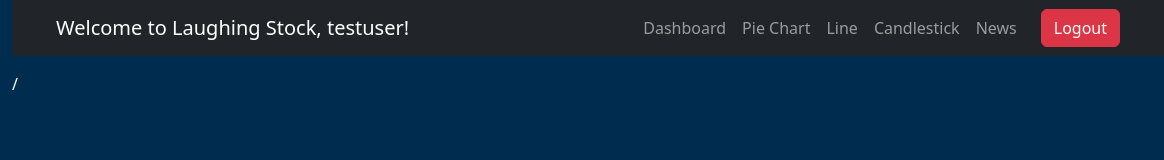
Test: navigation tests › navigates to the candlestick page when candlestick link is clicked
Click the link "Candlestick" at [917, 28], box top-left (874, 17), bottom-right (960, 39)
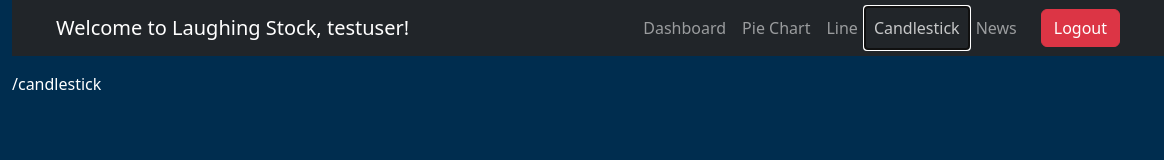
Now the text with test id "location-display" reads "/candlestick", box top-left (12, 73), bottom-right (101, 95)
